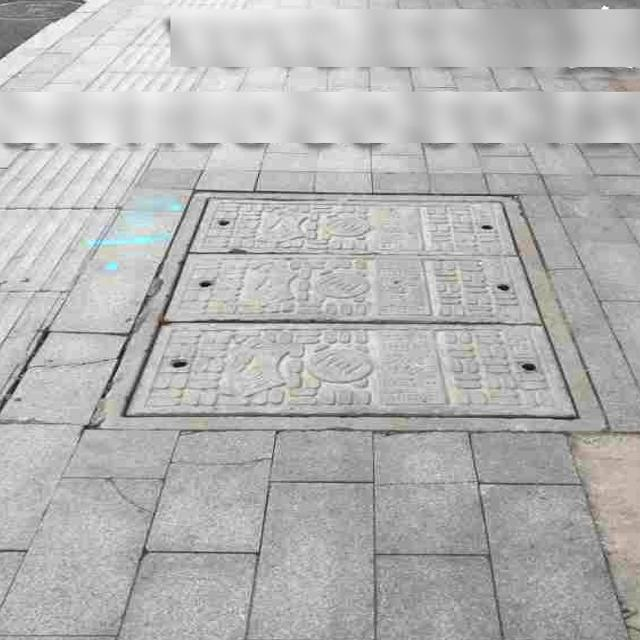good: (92, 190, 612, 433)
